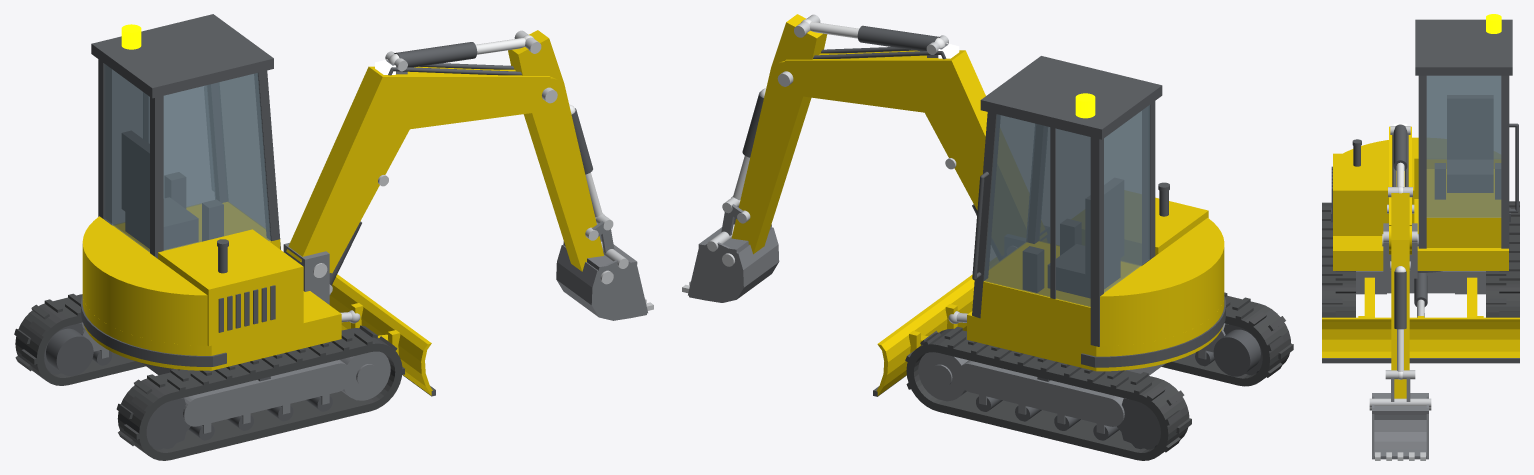
The model's file is Mini_Excavator_3-5t.glb.
3 views of the same model, side by side, from view 1: azimuth 30°, elevation 25°; view 2: azimuth 150°, elevation 25°; view 3: azimuth 270°, elevation 25° (orthographic). The views are drawn at different scales.
Visible parts, largest first — view 1: blade, sprocket_L, cab_glass, track_L, track_frame_L, blade_ram, ram_rods; view 2: blade, sprocket_L, cab_glass, track_L, track_frame_L, blade_ram, ram_rods; view 3: blade, sprocket_L, cab_glass, track_frame_L, track_L, blade_ram, ram_rods, beacon.
Part boxes in pixels (box(x1,y1,x2,y2)): blade: box(82, 30, 603, 395); sprocket_L: box(44, 14, 592, 449); cab_glass: box(104, 63, 270, 252); track_L: box(14, 293, 404, 460); track_frame_L: box(81, 60, 647, 433); blade_ram: box(313, 30, 653, 323); ram_rods: box(389, 35, 604, 224); blade: box(731, 14, 1224, 395); sprocket_L: box(742, 25, 1262, 449); cab_glass: box(984, 105, 1149, 306); track_L: box(905, 292, 1293, 460); track_frame_L: box(688, 44, 1225, 433); blade_ram: box(682, 14, 967, 323); ram_rods: box(731, 19, 945, 206); blade: box(1322, 126, 1519, 398); sprocket_L: box(1322, 19, 1519, 363); cab_glass: box(1426, 75, 1501, 217); track_frame_L: box(1356, 223, 1485, 459); track_L: box(1322, 201, 1519, 317); blade_ram: box(1369, 126, 1431, 460); ram_rods: box(1395, 124, 1405, 379); beacon: box(1486, 14, 1501, 33).
Size of the model in its own units: 89.4 by 52.44 by 34.8.
